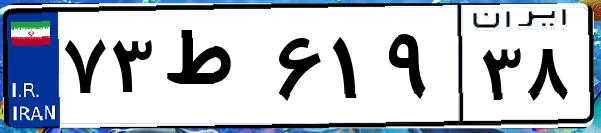1: (330, 28, 385, 110)
3: (475, 38, 525, 113), (110, 28, 158, 98)
6: (270, 28, 330, 110)
7: (57, 26, 110, 100)
8: (525, 38, 570, 115)
9: (385, 28, 445, 110)
ط: (158, 20, 270, 120)
